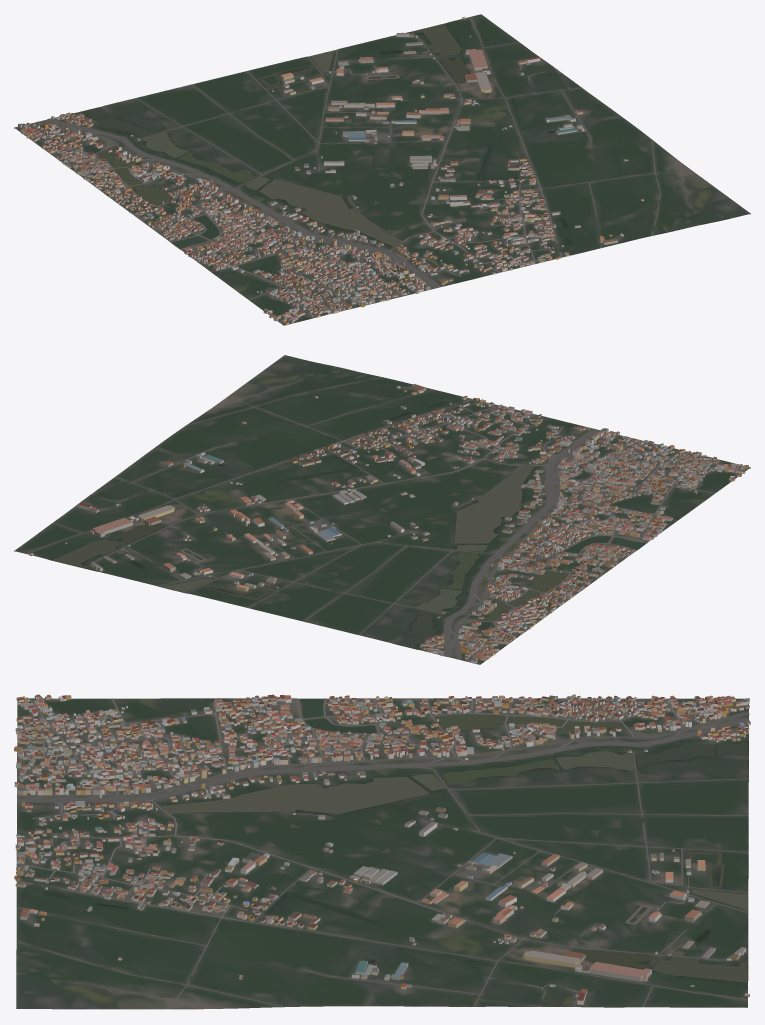
3 renders of one model, top to bottom at view 1: azimuth 30°, elevation 25°; view 2: azimuth 150°, elevation 25°; view 3: azimuth 270°, elevation 25°, orthographic. The views are drawn at different scales.
Visible parts, largest first — view 1: ground, buildings, water, roads; view 2: ground, buildings, water, roads; view 3: ground, buildings, water, roads.
Boxes of the visible parts, x1,y1,x2,y2 form: ground: [14, 14, 750, 325]; buildings: [18, 16, 643, 325]; water: [79, 23, 572, 248]; roads: [14, 17, 687, 322]; ground: [14, 355, 750, 664]; buildings: [29, 384, 748, 663]; water: [52, 401, 645, 648]; roads: [26, 377, 746, 664]; ground: [16, 698, 748, 1009]; buildings: [14, 694, 750, 1004]; water: [43, 698, 748, 982]; roads: [16, 698, 749, 1007].
Size of the model in its own units: 1408 by 25 by 1412.
